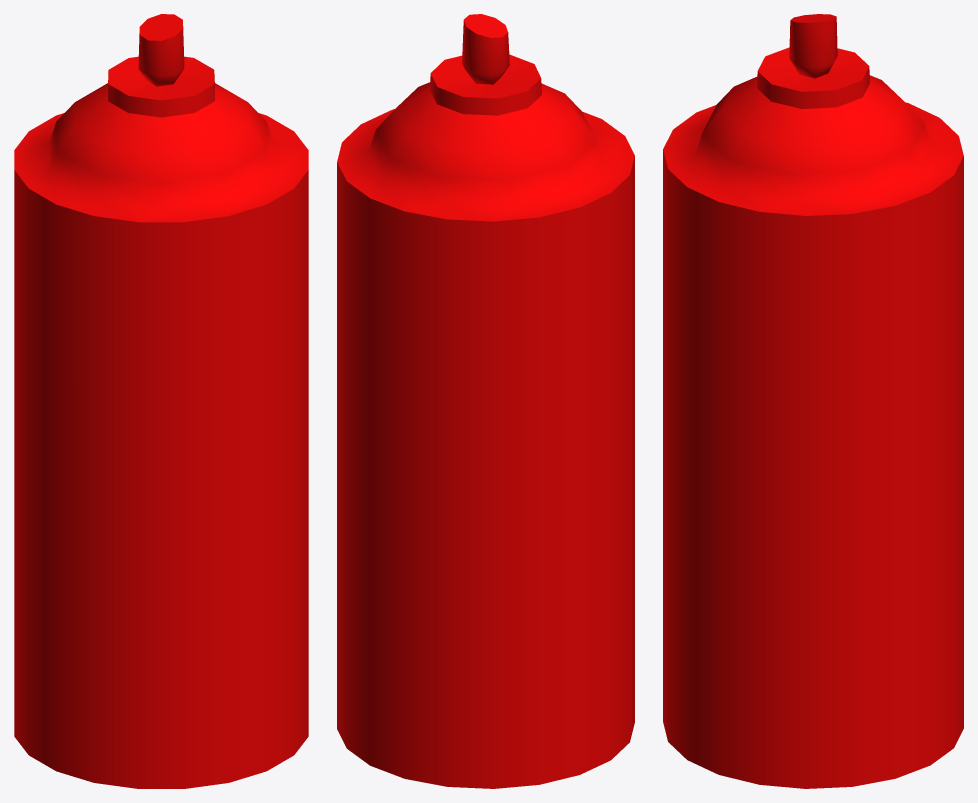
File: SM_Spraycan_can_03a.FBX
The picture shows the model from 3 angles, left to right: view 1: azimuth 30°, elevation 25°; view 2: azimuth 150°, elevation 25°; view 3: azimuth 270°, elevation 25°; orthographic projection.
Visible parts, largest first — view 1: SM_Spraycan_can_03a_LOD0; view 2: SM_Spraycan_can_03a_LOD0; view 3: SM_Spraycan_can_03a_LOD0.
Boxes of the visible parts, x1,y1,x2,y2 form: SM_Spraycan_can_03a_LOD0: (14,14,308,788); SM_Spraycan_can_03a_LOD0: (337,14,634,788); SM_Spraycan_can_03a_LOD0: (663,14,963,788).
Size of what is drawn, in the model's own units: 7.28 by 19.02 by 7.28.
